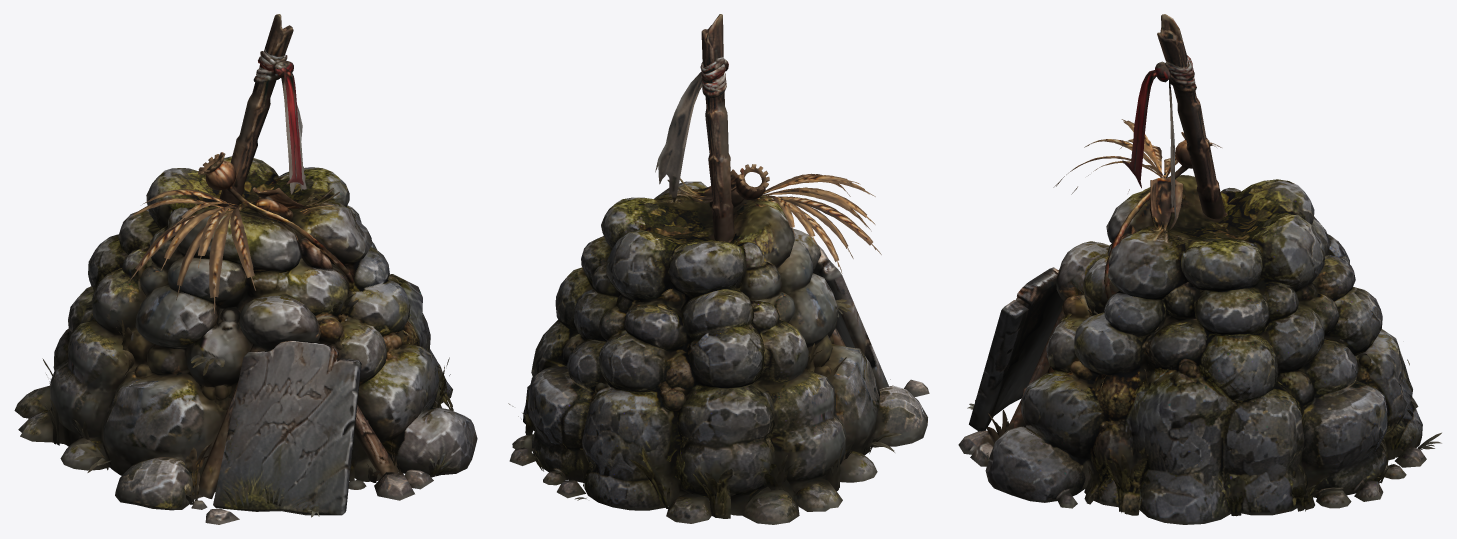
The model's file is act1_kit_v1_harvester_cairn.glb.
3 views of the same model, side by side, from view 1: azimuth 30°, elevation 25°; view 2: azimuth 150°, elevation 25°; view 3: azimuth 270°, elevation 25° (orthographic). The views are drawn at different scales.
Visible parts, largest first — view 1: act1_kit_v1_harvester_cairn; view 2: act1_kit_v1_harvester_cairn; view 3: act1_kit_v1_harvester_cairn.
Boxes of the visible parts, left/top/right/bottom form: act1_kit_v1_harvester_cairn: left=14, top=14, right=477, bottom=524; act1_kit_v1_harvester_cairn: left=508, top=14, right=929, bottom=524; act1_kit_v1_harvester_cairn: left=958, top=14, right=1441, bottom=524.
Size of the model in its own units: 0.8985 by 0.9862 by 1.
Materials: 1 (1 with a texture image).
